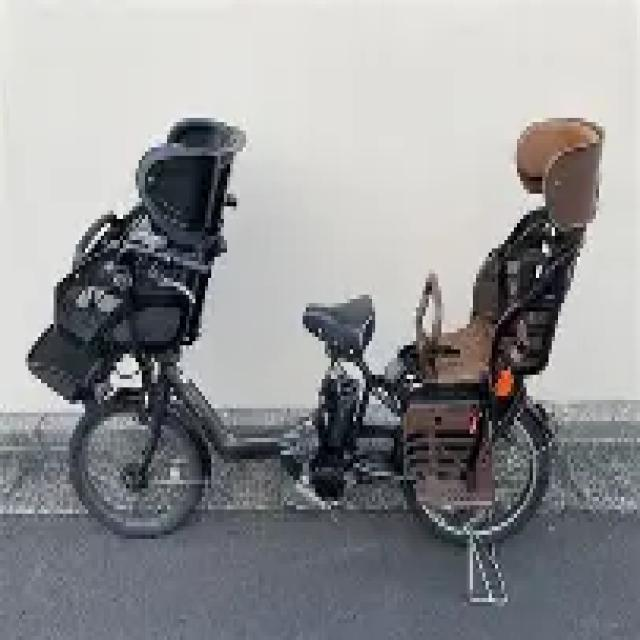battery: (321, 371, 355, 463)
childseat: (405, 114, 612, 497), (25, 115, 246, 414)
